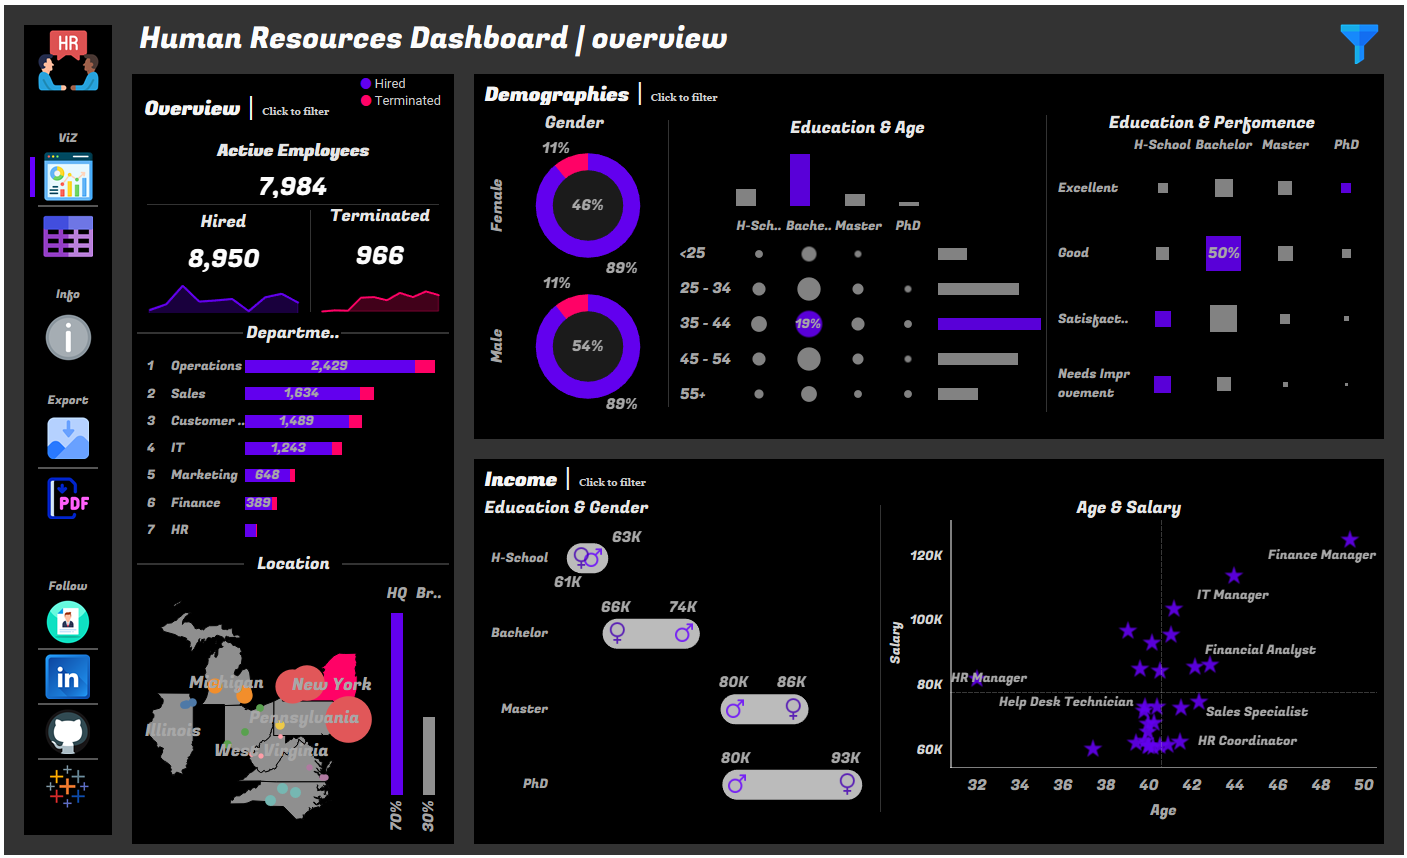

Layout of this report page (visuals, bound fields, positions):
{"tool":"tableau","page":{"name":"HR DashBoard","canvas":[1400,850],"ordinal":0},"visuals":[{"type":"blank","box":[9,9,89,420]},{"type":"text","box":[107,10,674,45]},{"type":"blank","box":[781,10,582,45]},{"type":"text","box":[117,65,301,31]},{"type":"text","box":[428,65,925,38]},{"type":"text","box":[117,96,301,32]},{"type":"text","box":[429,104,299,33]},{"type":"blank","box":[728,104,32,288]},{"type":"text","box":[760,104,157,33]},{"type":"blank","box":[917,104,32,288]},{"type":"text","box":[949,104,403,31]},{"type":"worksheet","title":"Total Active","mark":"Automatic","box":[117,128,301,69]},{"type":"worksheet","title":"Education vs Perfomance","mark":"Square","rows":["Performance Rating"],"cols":["Education Level"],"box":[949,135,403,257]},{"type":"worksheet","title":"Gender","mark":"Pie","cols":["Calculation_1570911847579926541","Calculation_1570911847579926541"],"box":[429,137,299,255]},{"type":"worksheet","title":"Age Group","mark":"Bar","rows":["Calculation_1570911847550730241"],"cols":["Calculation_1570911847585460240"],"box":[760,137,157,115]},{"type":"blank","box":[117,197,301,49]},{"type":"text","box":[117,246,136,33]},{"type":"blank","box":[253,246,32,132]},{"type":"text","box":[285,246,133,22]},{"type":"worksheet","title":"Age vs Education","mark":"Circle","rows":["Education Level"],"cols":["Calculation_1570911847585460240"],"box":[760,252,125,140]},{"type":"worksheet","title":"Education levels","mark":"Bar","rows":["Education Level"],"cols":["Calculation_1570911847550730241"],"box":[885,252,32,140]},{"type":"worksheet","title":"Total Terminated","mark":"Automatic","box":[285,268,133,72]},{"type":"worksheet","title":"Total Hired","mark":"Automatic","box":[117,279,136,58]},{"type":"worksheet","title":"Hired by Year","mark":"Automatic","rows":["Calculation_1570911847550730241","Calculation_1570911847550730241"],"cols":["Hiredate"],"box":[117,337,136,41]},{"type":"worksheet","title":"Terminated by Year","mark":"Area","rows":["Calculation_1570911847551270914","Calculation_1570911847551270914"],"cols":["Termdate"],"box":[285,340,133,38]},{"type":"blank","box":[117,378,58,32]},{"type":"text","box":[175,378,191,32]},{"type":"blank","box":[366,378,52,32]},{"type":"blank","box":[428,393,925,32]},{"type":"worksheet","title":"Departments","mark":"Automatic","rows":["Calculation_1570911847565578246","Department"],"cols":["Calculation_1570911847550730241"],"box":[117,410,301,170]},{"type":"blank","box":[9,429,89,412]},{"type":"text","box":[433,430,915,32]},{"type":"text","box":[434,463,469,31]},{"type":"blank","box":[903,463,30,302]},{"type":"text","box":[933,463,414,33]},{"type":"worksheet","title":"Gender vs edu vs Salary","mark":"Square","rows":["Education Level"],"cols":["Salary","Salary"],"box":[434,494,469,271]},{"type":"worksheet","title":"age vs Salary","mark":"Shape","rows":["Salary"],"cols":["Calculation_1570911847584088078"],"box":[933,496,414,269]},{"type":"blank","box":[117,580,103,41]},{"type":"text","box":[220,580,95,41]},{"type":"blank","box":[315,580,103,41]},{"type":"worksheet","title":"Map Starts","mark":"Multipolygon","box":[117,621,200,182]},{"type":"worksheet","title":"Location","mark":"Automatic","rows":["Calculation_1570911847550730241"],"cols":["Calculation_1570911847567880199"],"box":[317,621,101,182]},{"type":"blank","box":[433,766,915,32]}]}

Visuals, with their boxes on the page's 1400x850 design canvas (x1, y1, x2, y2). These are canvas units, not pixel positions in the 1407x858 screenshot, which may show the page scaled, cropped or inside an application window:
blank: select_region(9, 9, 98, 429)
text: select_region(107, 10, 781, 55)
blank: select_region(781, 10, 1363, 55)
text: select_region(117, 65, 418, 96)
text: select_region(428, 65, 1353, 103)
text: select_region(117, 96, 418, 128)
text: select_region(429, 104, 728, 137)
blank: select_region(728, 104, 760, 392)
text: select_region(760, 104, 917, 137)
blank: select_region(917, 104, 949, 392)
text: select_region(949, 104, 1352, 135)
"Total Active" worksheet: select_region(117, 128, 418, 197)
"Education vs Perfomance" worksheet (Square marks): select_region(949, 135, 1352, 392)
"Gender" worksheet (Pie marks): select_region(429, 137, 728, 392)
"Age Group" worksheet (Bar marks): select_region(760, 137, 917, 252)
blank: select_region(117, 197, 418, 246)
text: select_region(117, 246, 253, 279)
blank: select_region(253, 246, 285, 378)
text: select_region(285, 246, 418, 268)
"Age vs Education" worksheet (Circle marks): select_region(760, 252, 885, 392)
"Education levels" worksheet (Bar marks): select_region(885, 252, 917, 392)
"Total Terminated" worksheet: select_region(285, 268, 418, 340)
"Total Hired" worksheet: select_region(117, 279, 253, 337)
"Hired by Year" worksheet: select_region(117, 337, 253, 378)
"Terminated by Year" worksheet (Area marks): select_region(285, 340, 418, 378)
blank: select_region(117, 378, 175, 410)
text: select_region(175, 378, 366, 410)
blank: select_region(366, 378, 418, 410)
blank: select_region(428, 393, 1353, 425)
"Departments" worksheet: select_region(117, 410, 418, 580)
blank: select_region(9, 429, 98, 841)
text: select_region(433, 430, 1348, 462)
text: select_region(434, 463, 903, 494)
blank: select_region(903, 463, 933, 765)
text: select_region(933, 463, 1347, 496)
"Gender vs edu vs Salary" worksheet (Square marks): select_region(434, 494, 903, 765)
"age vs Salary" worksheet (Shape marks): select_region(933, 496, 1347, 765)
blank: select_region(117, 580, 220, 621)
text: select_region(220, 580, 315, 621)
blank: select_region(315, 580, 418, 621)
"Map Starts" worksheet (Multipolygon marks): select_region(117, 621, 317, 803)
"Location" worksheet: select_region(317, 621, 418, 803)
blank: select_region(433, 766, 1348, 798)
